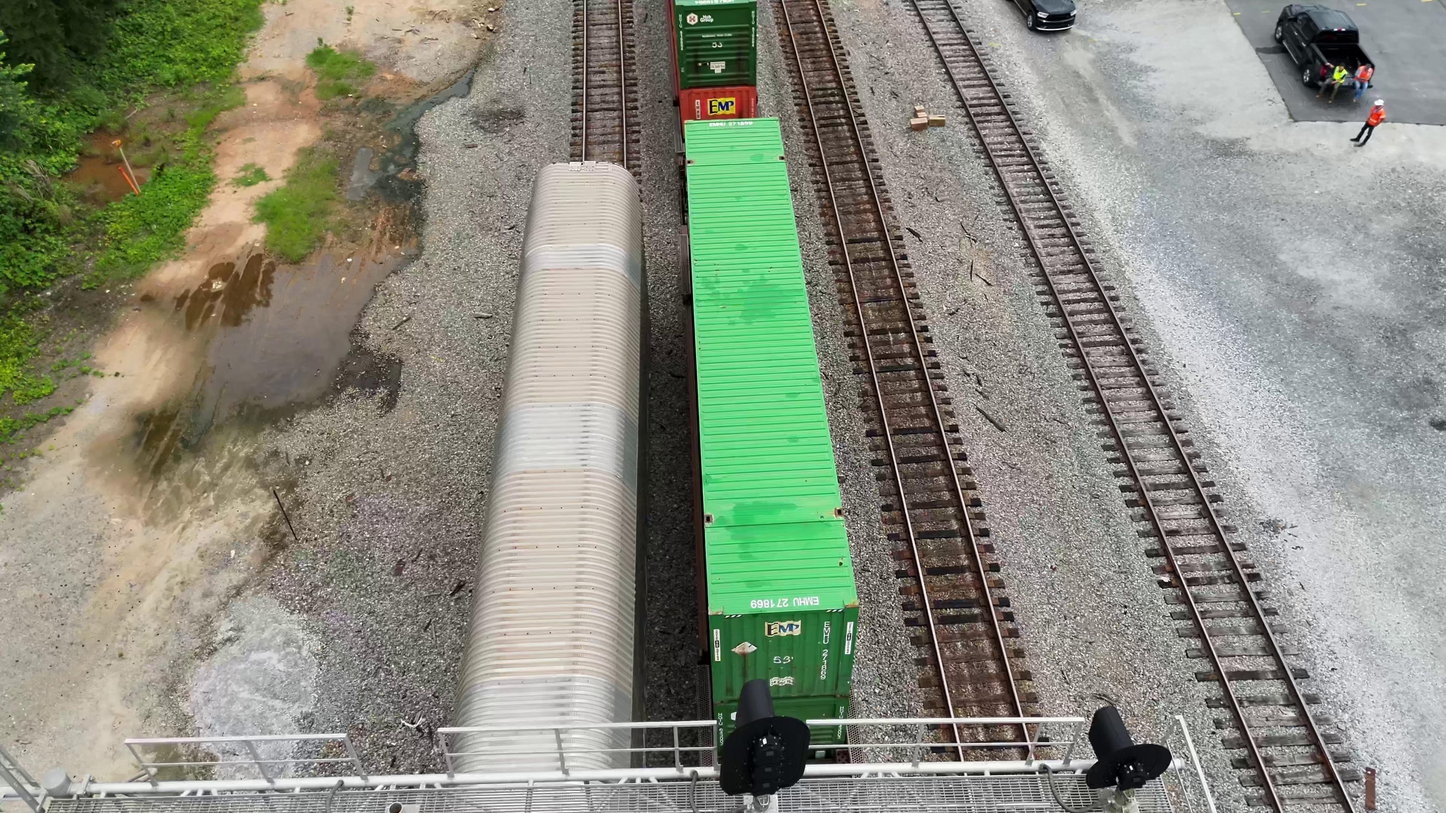box: (910, 117, 928, 130), (928, 114, 946, 127), (914, 105, 925, 115), (916, 112, 928, 118)
human: (1349, 99, 1386, 147), (1315, 62, 1349, 103), (1352, 64, 1373, 105)
